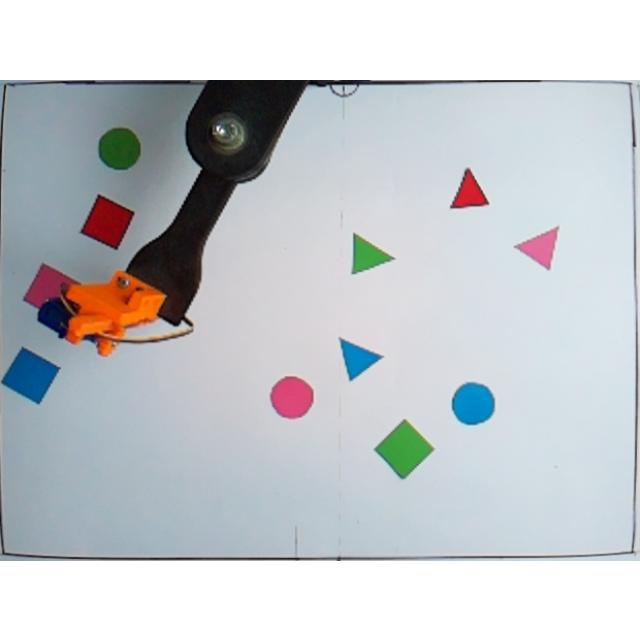blueCircle: (450, 378, 496, 426)
blueSquare: (2, 344, 62, 404)
blueTriangle: (336, 334, 384, 382)
greenCircle: (96, 123, 144, 171)
greenSquare: (374, 416, 436, 479)
greenTriangle: (349, 230, 397, 276)
pinkCircle: (270, 374, 316, 418)
pinkSquare: (21, 260, 84, 318)
pinkTriangle: (514, 215, 562, 271)
redSquare: (80, 190, 136, 252)
redTriangle: (447, 166, 493, 214)
